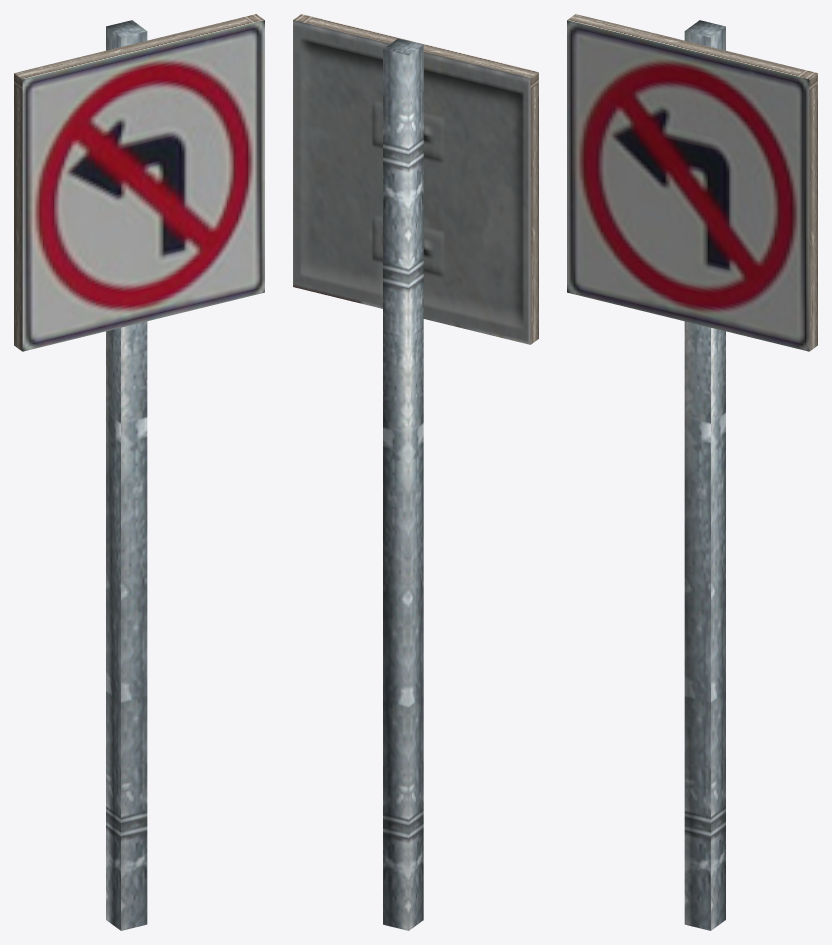
Rendered from Model_StreetSign_05.fbx.
3 renders of one model, left to right at view 1: azimuth 30°, elevation 25°; view 2: azimuth 150°, elevation 25°; view 3: azimuth 330°, elevation 25°, orthographic. The views are drawn at different scales.
Parts seen in each view (by area): view 1: StreetSign_05; view 2: StreetSign_05; view 3: StreetSign_05.
Part boxes in pixels (x1,y1,x2,y2): StreetSign_05: (14, 14, 264, 930); StreetSign_05: (293, 14, 538, 930); StreetSign_05: (567, 14, 817, 930).
Size of the model in its own units: 59.59 by 210 by 10.5.
